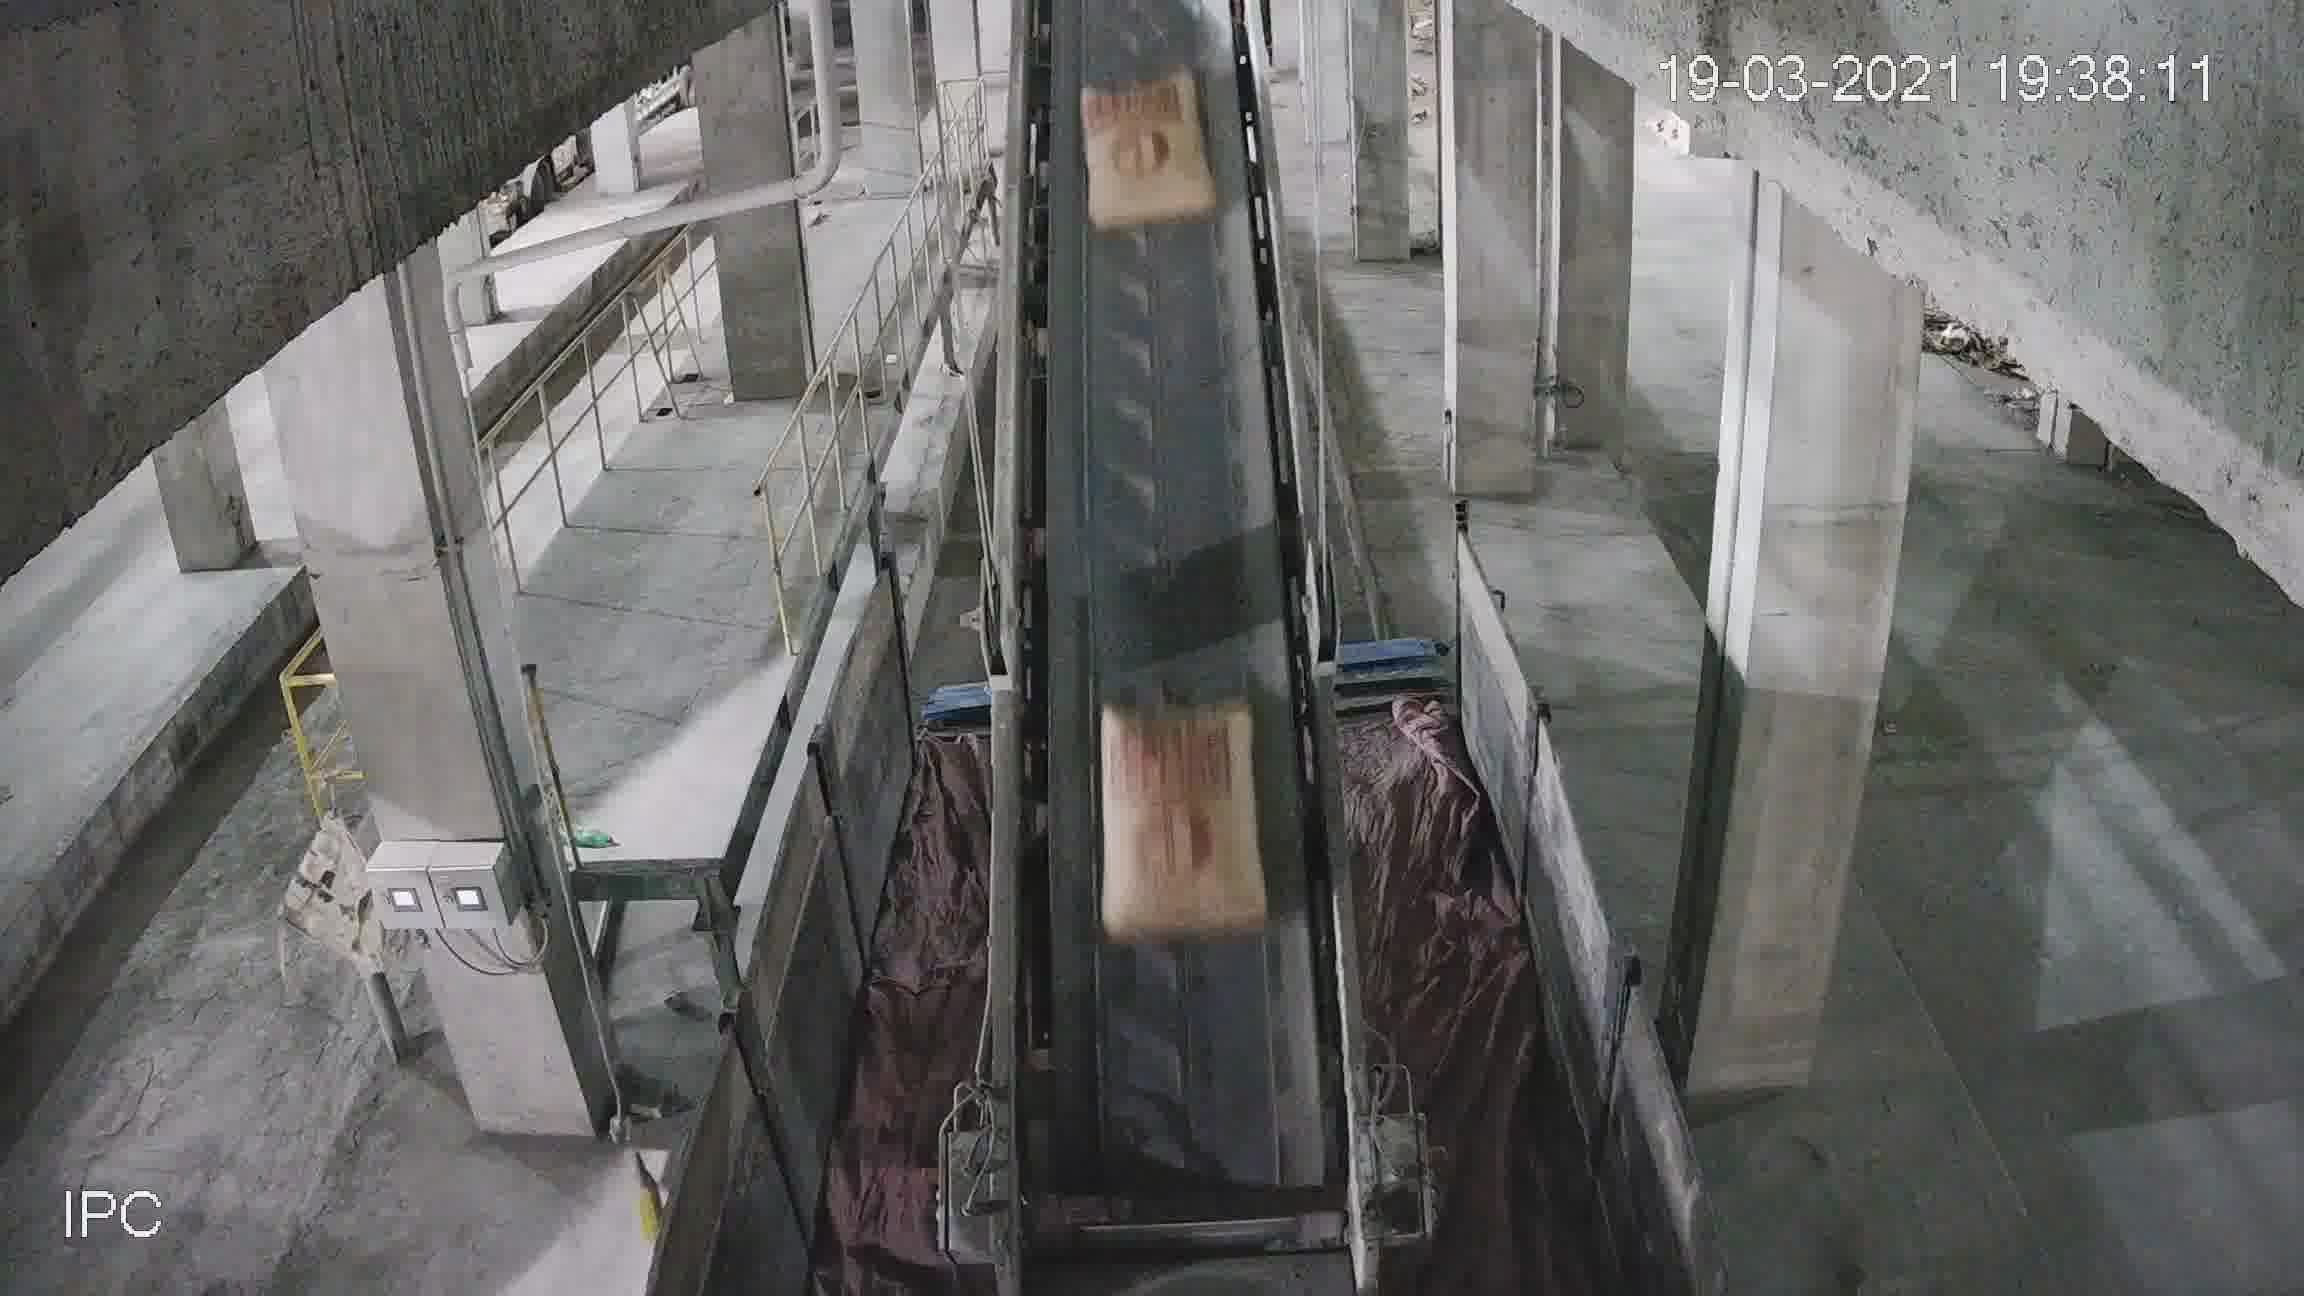bag: (1101, 709, 1253, 934), (1086, 66, 1211, 226)
belt: (987, 8, 1347, 1127)
